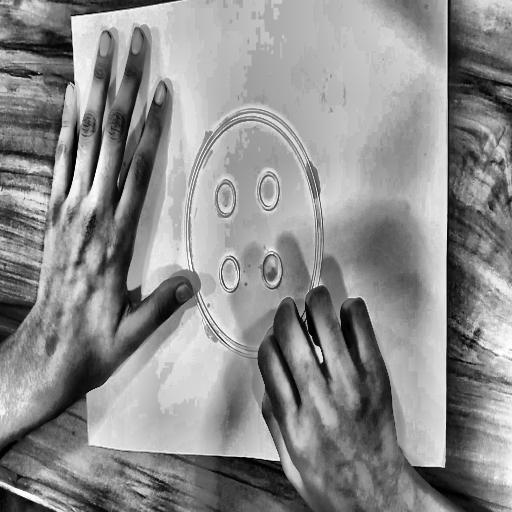bottom_left: (86, 438, 92, 449)
bottom_right: (442, 460, 448, 471)
button: (177, 98, 334, 376)
top_left: (69, 13, 74, 22)
